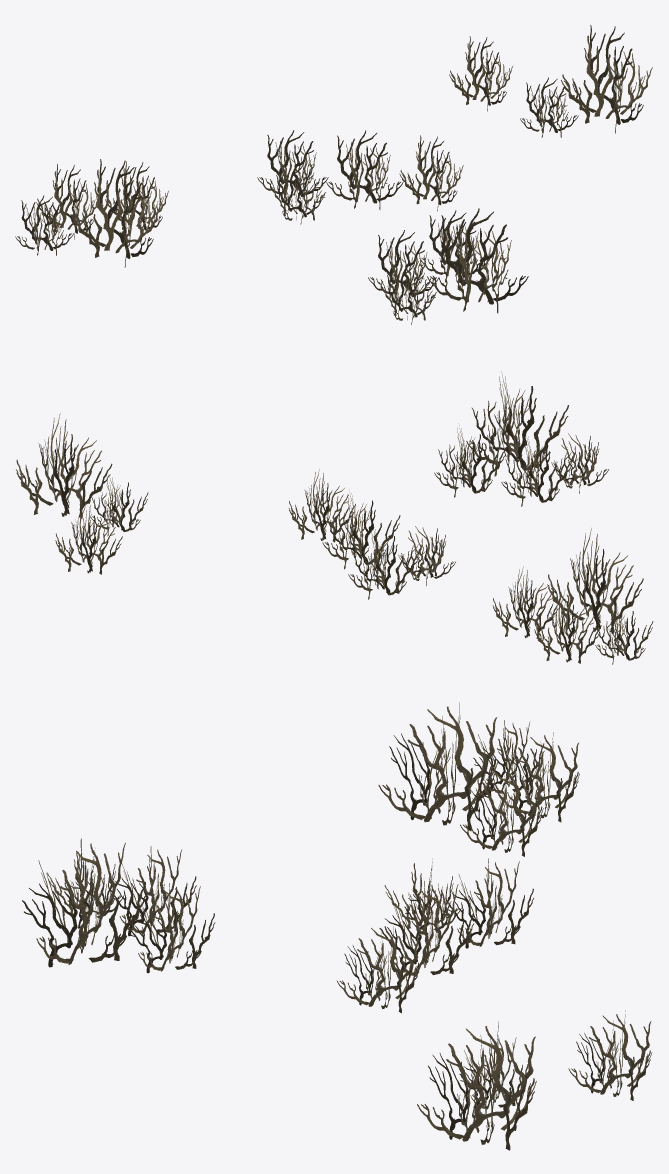
Rendered from Area_13_12.fbx.
3 views of the same model, one above another, from view 1: azimuth 30°, elevation 25°; view 2: azimuth 150°, elevation 25°; view 3: azimuth 270°, elevation 25° (orthographic). The views are drawn at different scales.
Visible parts, largest first — view 1: Area_13_12; view 2: Area_13_12; view 3: Area_13_12.
Part boxes in pixels (<box>): Area_13_12: <box>15,25,652,324</box>; Area_13_12: <box>16,372,653,664</box>; Area_13_12: <box>22,702,652,1150</box>.
Size of the model in its own units: 2716 by 400 by 1859.
Materials: 1 (1 with a texture image).
